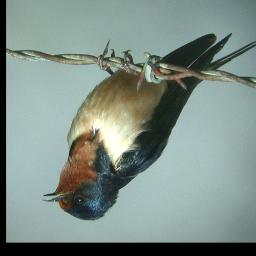Swallow: (42, 33, 256, 222)
